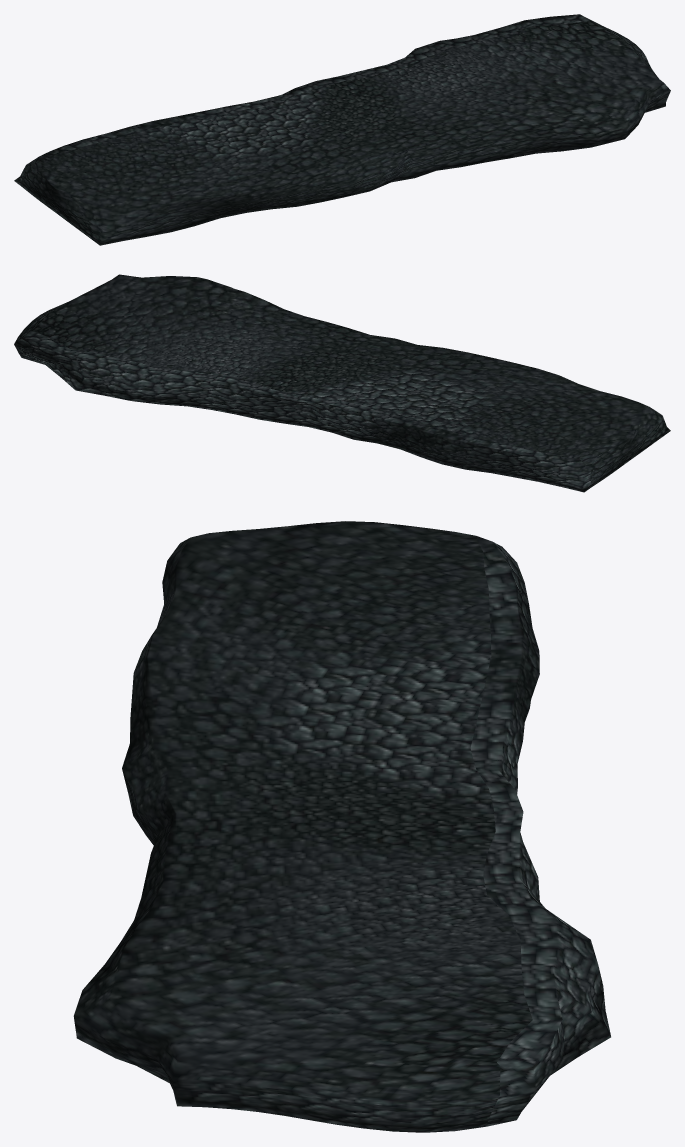
Rendered from FP4_thin.fbx.
3 renders of one model, top to bottom at view 1: azimuth 30°, elevation 25°; view 2: azimuth 150°, elevation 25°; view 3: azimuth 270°, elevation 25°, orthographic. The views are drawn at different scales.
Visible parts, largest first — view 1: Straight_Piece_B; view 2: Straight_Piece_B; view 3: Straight_Piece_B.
Boxes of the visible parts, x1,y1,x2,y2 form: Straight_Piece_B: (14,14,670,245); Straight_Piece_B: (14,274,670,492); Straight_Piece_B: (73,521,610,1132).
Bounding box in the file's own units: 516 × 43.12 × 206.
